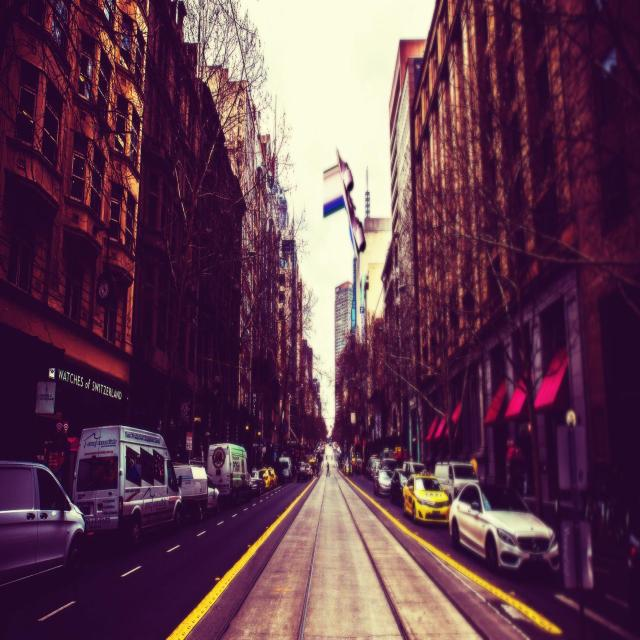airplane: (323, 145, 367, 261)
